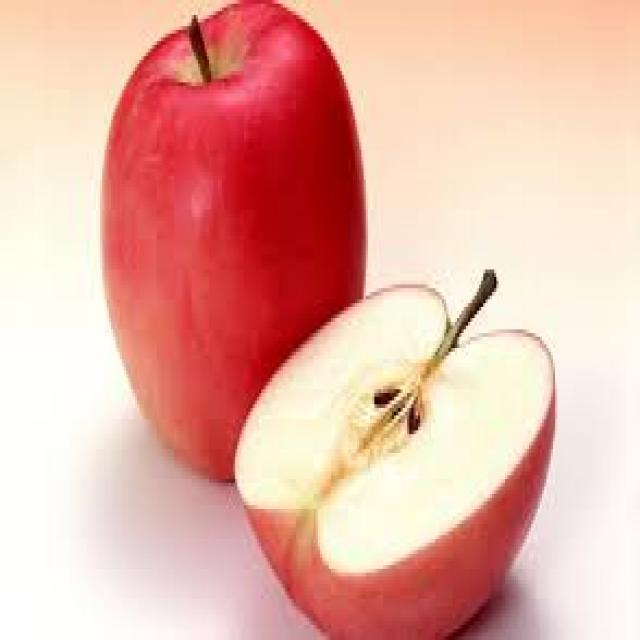organic waste: (98, 0, 366, 483), (231, 262, 555, 636)
